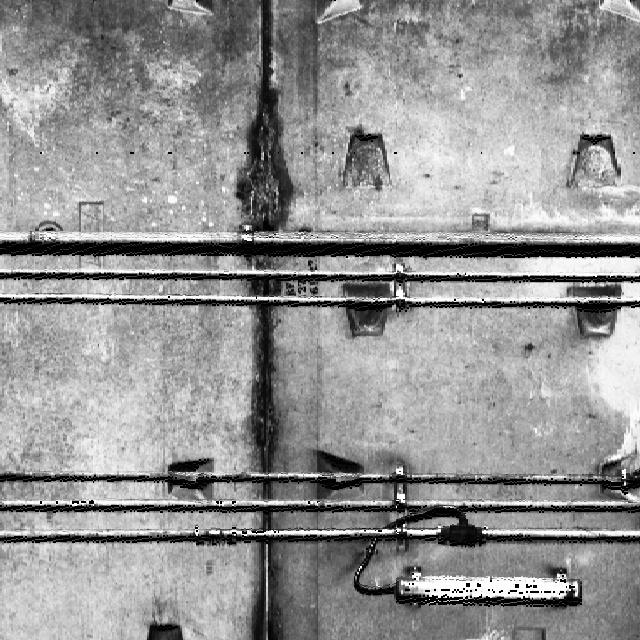leakage: (237, 299, 304, 639), (228, 12, 308, 233)
